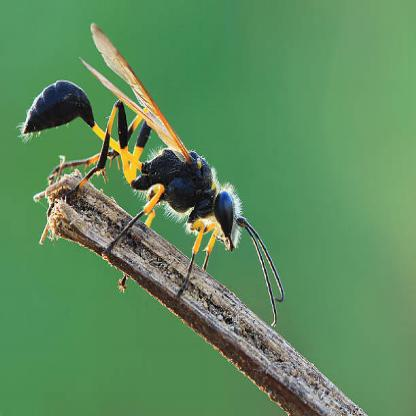sawfly: (19, 20, 287, 333)
